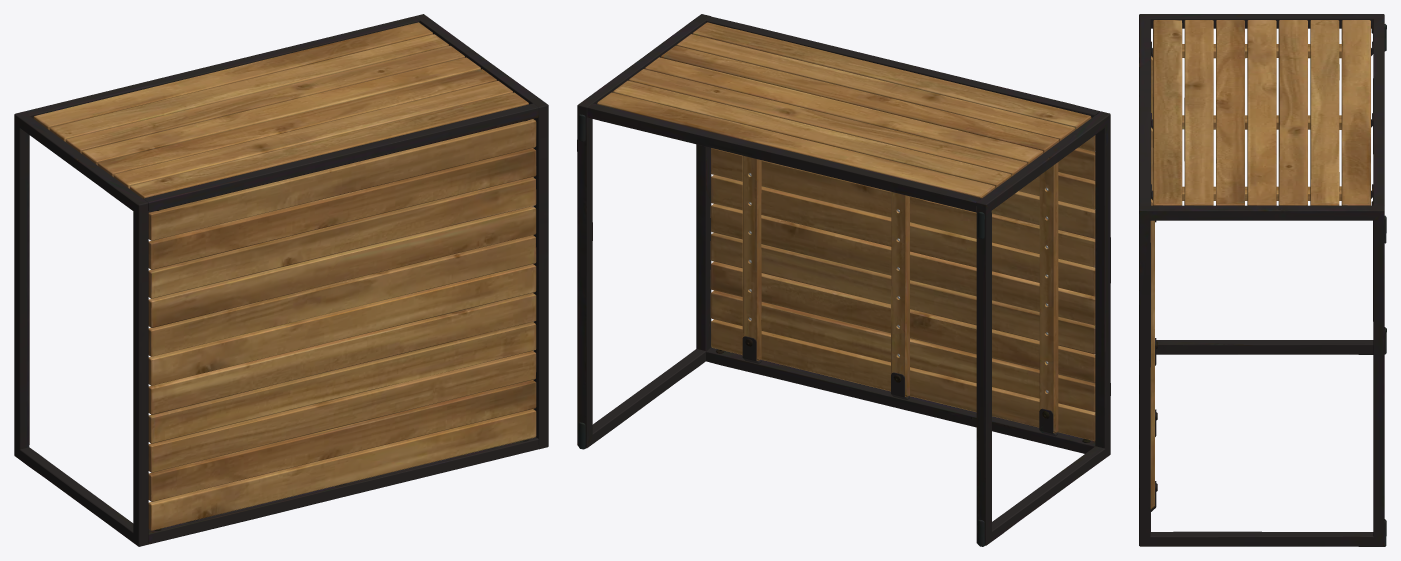
Rendered from hakanskar-outdoor-coffee-table-light-brown.glb.
3 views of the same model, side by side, from view 1: azimuth 30°, elevation 25°; view 2: azimuth 150°, elevation 25°; view 3: azimuth 270°, elevation 25° (orthographic).
Parts seen in each view (by area): view 1: ASY_ART_70597162_S01_NV01; view 2: ASY_ART_70597162_S01_NV01; view 3: ASY_ART_70597162_S01_NV01.
Boxes of the visible parts, <box> form: ASY_ART_70597162_S01_NV01: <box>14,14,548,546</box>; ASY_ART_70597162_S01_NV01: <box>577,14,1110,546</box>; ASY_ART_70597162_S01_NV01: <box>1139,14,1386,546</box>.
Bounding box in the file's own units: 0.8001 × 0.6418 × 0.4257.
1 material, 1 textured.
